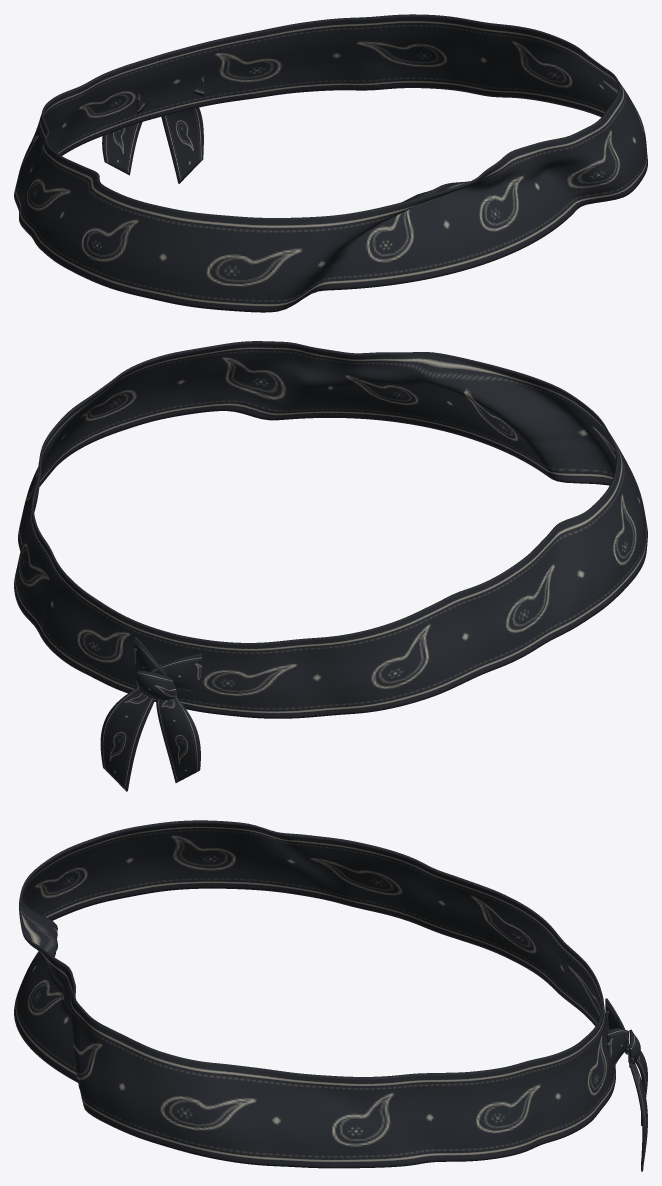
File: Masculine-flow-bandana.glb
3 views of the same model, one above another, from view 1: azimuth 30°, elevation 25°; view 2: azimuth 150°, elevation 25°; view 3: azimuth 270°, elevation 25° (orthographic). The views are drawn at different scales.
Visible parts, largest first — view 1: Bandana / folded wrap, Bandana / hemmed tail 1, Bandana / hemmed tail -1; view 2: Bandana / folded wrap, Bandana / hemmed tail 1, Bandana / hemmed tail -1, Bandana / gathered fold -1, Bandana / rounded knot fold; view 3: Bandana / folded wrap, Bandana / hemmed tail 1, Bandana / gathered fold 1.
Boxes of the visible parts, x1,y1,x2,y2 form: Bandana / folded wrap: [14, 14, 647, 312]; Bandana / hemmed tail 1: [161, 107, 203, 183]; Bandana / hemmed tail -1: [102, 122, 142, 175]; Bandana / folded wrap: [14, 341, 647, 718]; Bandana / hemmed tail 1: [100, 687, 154, 791]; Bandana / hemmed tail -1: [156, 697, 200, 782]; Bandana / gathered fold -1: [151, 653, 201, 692]; Bandana / rounded knot fold: [136, 670, 176, 700]; Bandana / folded wrap: [14, 820, 615, 1168]; Bandana / hemmed tail 1: [628, 1052, 647, 1171]; Bandana / gathered fold 1: [607, 1028, 628, 1067].
Bounding box in the file's own units: 0.8856 × 0.3406 × 0.8485.
Materials: 1 (1 with a texture image).
